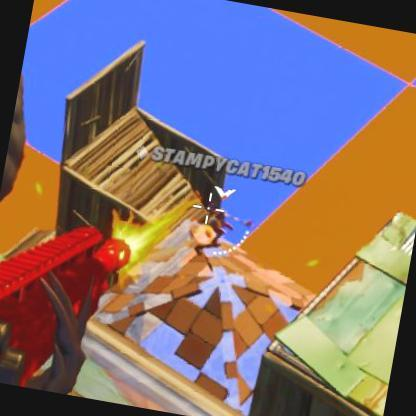Person: (192, 200, 226, 258)
